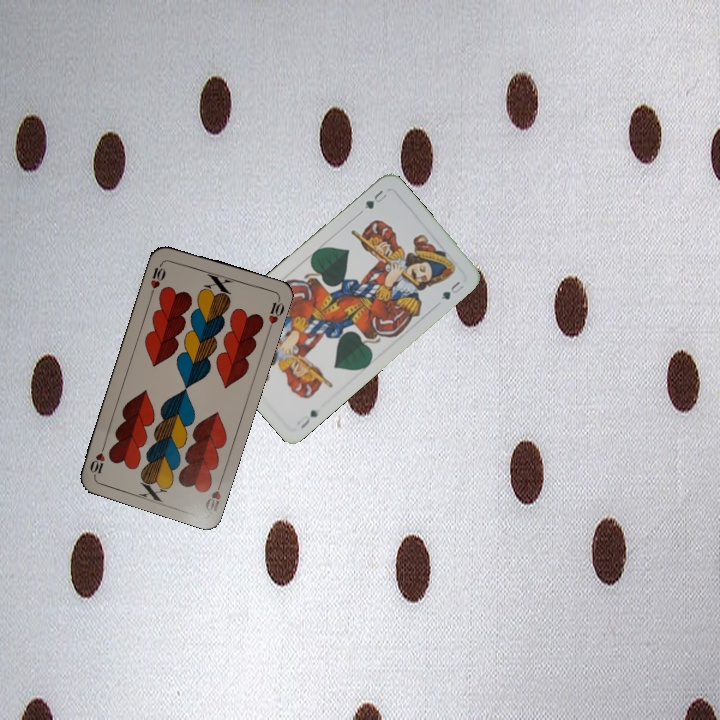GU: (360, 186, 389, 212), (293, 406, 320, 431)
H10: (201, 475, 226, 514), (146, 258, 168, 297)
